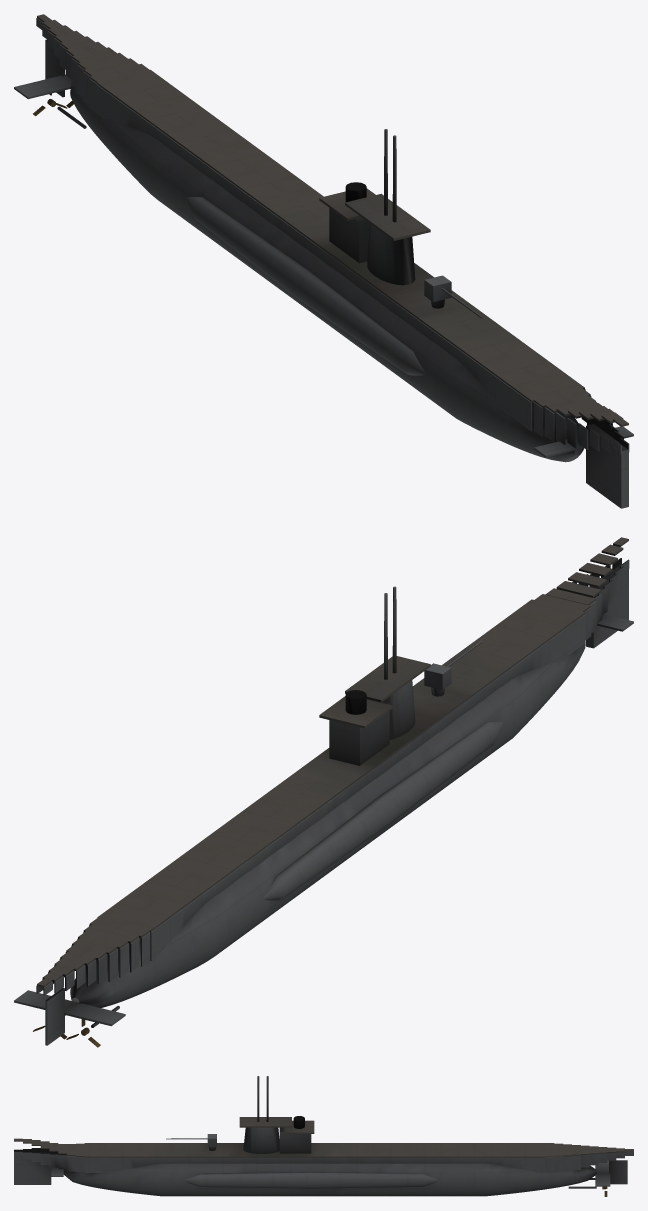
The model's file is model_built.glb.
The picture shows the model from 3 angles, top to bottom: view 1: azimuth 30°, elevation 25°; view 2: azimuth 150°, elevation 25°; view 3: azimuth 270°, elevation 25°; orthographic projection. The views are drawn at different scales.
Visible parts, largest first — view 1: boat; view 2: boat; view 3: boat.
Boxes of the visible parts, x1,y1,x2,y2 form: boat: (14,14,633,508); boat: (14,537,633,1047); boat: (14,1076,633,1196).
Size of the model in its own units: 6.52 by 13.95 by 66.52.
1 material, 1 textured.
